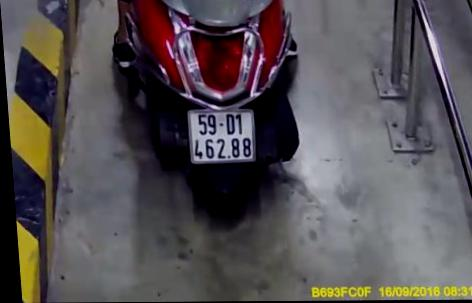License_Plate: (180, 106, 263, 169)
